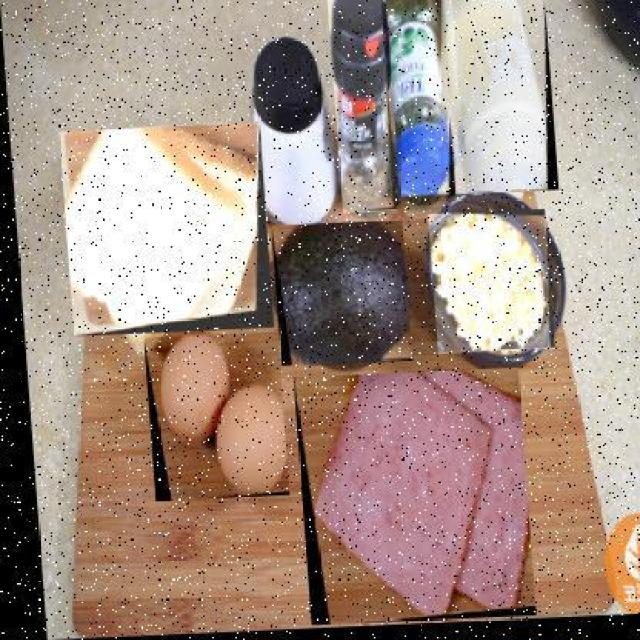Egg: (215, 385, 288, 492), (162, 335, 229, 438)
